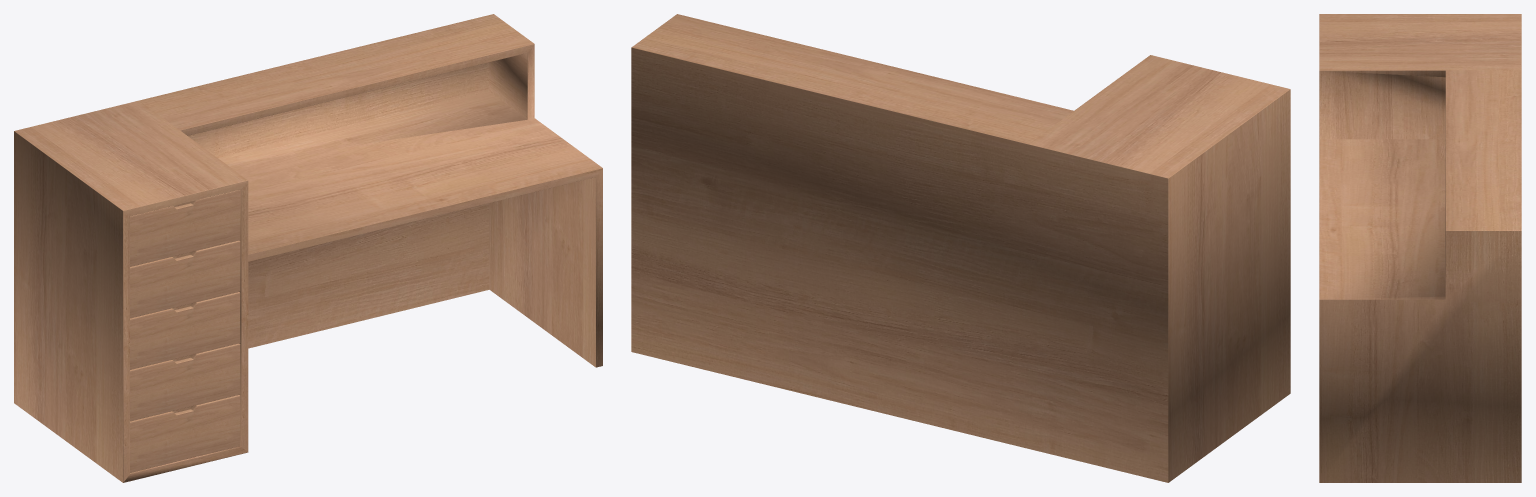
Rendered from studydesk.glb.
3 views of the same model, side by side, from view 1: azimuth 30°, elevation 25°; view 2: azimuth 150°, elevation 25°; view 3: azimuth 270°, elevation 25° (orthographic). The views are drawn at different scales.
Parts seen in each view (by area): view 1: Wooden desk; view 2: Wooden desk; view 3: Wooden desk.
Part boxes in pixels (box(x1,y1,x2,y2)): Wooden desk: box(14, 14, 602, 482); Wooden desk: box(631, 14, 1290, 482); Wooden desk: box(1319, 14, 1521, 482).
Size of the model in its own units: 2.03 by 1.1 by 0.8.
Materials: 1 (1 with a texture image).
